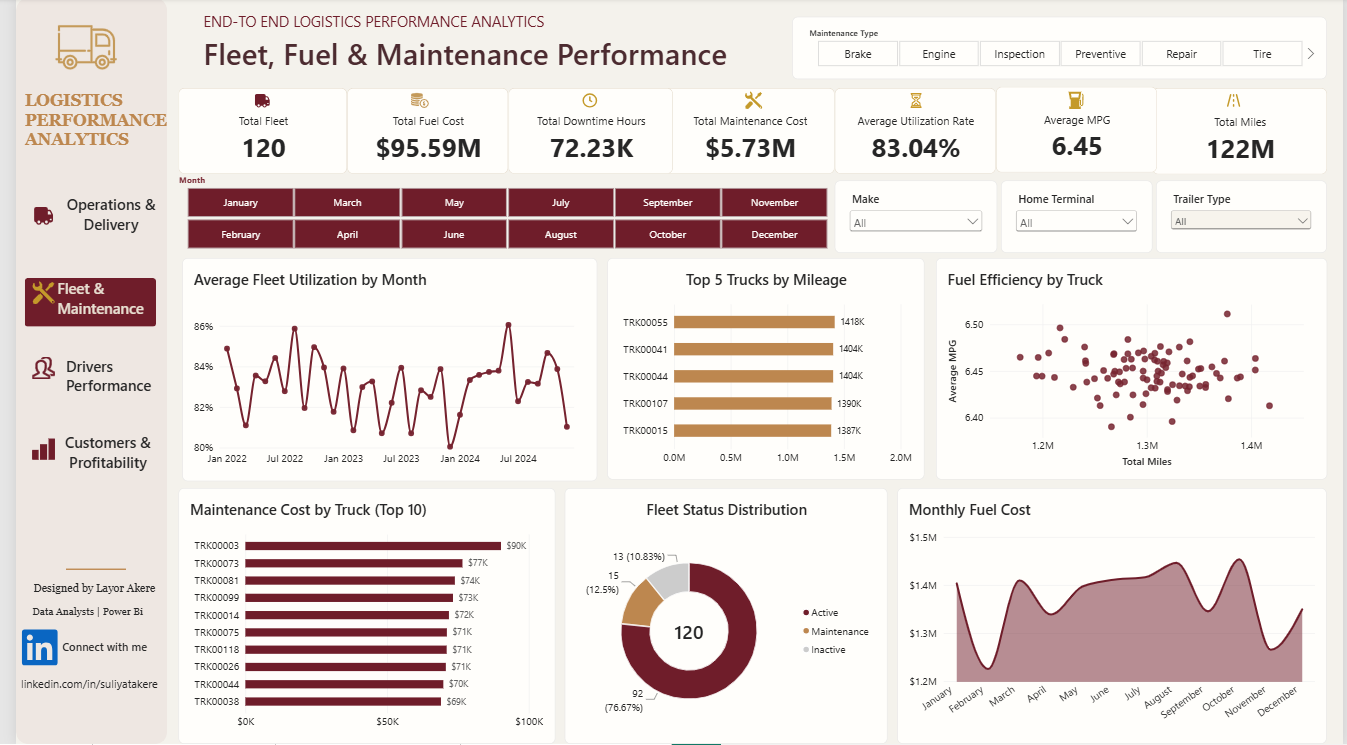

This screenshot's page, from the dashboard's own definition file:
{"tool":"powerbi","page":{"name":"Fleet&Maintenance","canvas":[1920,1080],"ordinal":1},"visuals":[{"type":"cardVisual","fields":{"Data":["truck.Total Fleet"]},"box":[234.6,129.7,244.3,124.9],"z":0},{"type":"cardVisual","fields":{"Data":["trip.Total Miles"]},"box":[1644.6,129.7,253.2,125.6],"z":1000},{"type":"cardVisual","fields":{"Data":["truck utilization metrics.Average Utilization Rate"]},"box":[1185.6,129.7,233.4,124.9],"z":2000},{"type":"cardVisual","fields":{"Data":["maintenance record.Total Maintenance Cost"]},"box":[938.6,129.7,246.1,124.9],"z":3000},{"type":"cardVisual","fields":{"Data":["fuel purchases.Total Fuel Cost"]},"box":[479.6,129.7,233.4,124.9],"z":4000},{"type":"cardVisual","fields":{"Data":["maintenance record.Total Downtime Hours"]},"box":[712.2,129.7,238.9,124.9],"z":5000},{"type":"cardVisual","fields":{"Data":["trip.Average MPG"]},"box":[1418.2,127.6,233.4,124.9],"z":6000},{"type":"shape","box":[0,0,219,1080.4],"z":7000},{"type":"actionButton","box":[12.7,282.3,190,65.1],"z":8000},{"type":"textbox","box":[72.4,284.1,130.3,63.3],"z":9000},{"type":"actionButton","box":[12.7,604.4,190,97.7],"z":10000},{"type":"actionButton","box":[14.5,396.3,190,79.6],"z":11000},{"type":"actionButton","box":[12.7,510.3,208.1,79.6],"z":12000},{"type":"actionButton","box":[12.7,405.4,190,70.6],"z":13000},{"type":"textbox","box":[59.7,405.4,148.4,63.3],"z":14000},{"type":"textbox","box":[72.4,517.6,135.7,67],"z":15000},{"type":"textbox","box":[56.1,628,153.8,83.2],"z":16000},{"type":"lineChart","title":" Average Fleet Utilization by Month","fields":{"Category":["truck utilization metrics.month.Variation.Date Hierarchy.Year","truck utilization metrics.month.Variation.Date Hierarchy.Month"],"Y":["truck utilization metrics.Average Utilization Rate"]},"box":[240.8,376.7,601,323.2],"z":17000},{"type":"clusteredBarChart","title":"Maintenance Cost by Truck (Top 10)","fields":{"Y":["maintenance record.Total Maintenance Cost"],"Category":["maintenance record.Truck ID"]},"box":[234.6,710.1,545.5,370.5],"z":18000},{"type":"donutChart","title":"Fleet Status Distribution","fields":{"Category":["truck.Status"],"Y":["truck.Total Fleet"]},"box":[794.5,710.1,467.2,370.5],"z":19000},{"type":"slicer","fields":{"Values":["truck.Home Terminal"]},"box":[1426.4,263.5,219,105],"z":20000},{"type":"areaChart","title":"Monthly Fuel Cost","fields":{"Category":["fuel purchases.purchase_date.Variation.Date Hierarchy.Month"],"Y":["fuel purchases.Total Fuel Cost"]},"box":[1276.2,710.1,621.6,370.5],"z":21000},{"type":"scatterChart","title":"Fuel Efficiency by Truck","fields":{"X":["trip.Total Miles"],"Y":["trip.Average MPG"],"Category":["trip.Truck ID"]},"box":[1331.7,376.7,566,321.1],"z":22000},{"type":"barChart","title":"Top 5 Trucks by Mileage ","fields":{"Category":["truck.Truck ID"],"Y":["trip.Total Miles"]},"box":[856.3,376.7,459,321.1],"z":23000},{"type":"slicer","fields":{"Values":["truck.Make"]},"box":[1185.6,263.5,235.3,105],"z":24000},{"type":"slicer","fields":{"Values":["trailer.Trailer Type"]},"box":[1650.8,263.5,247,105],"z":25000},{"type":"textbox","box":[12.7,115.8,215.3,139.3],"z":26000},{"type":"textbox","box":[271.7,51.5,796.6,76.2],"z":27000},{"type":"image","box":[343.7,129.7,25.3,36.2],"z":28000},{"type":"image","box":[1055.9,129.7,25.3,36.2],"z":29000},{"type":"image","box":[572.2,129.7,25.3,36.2],"z":30000},{"type":"image","box":[817.2,129.7,25.3,36.2],"z":31000},{"type":"image","box":[1290.6,129.7,25.3,36.2],"z":32000},{"type":"image","box":[1521.1,129.7,25.3,36.2],"z":33000},{"type":"image","box":[1749.6,129.7,25.3,36.2],"z":34000},{"type":"image","box":[23.5,289.5,32.6,50.7],"z":35000},{"type":"image","box":[23.5,401.7,32.6,50.7],"z":36000},{"type":"image","box":[23.5,510.3,32.6,50.7],"z":37000},{"type":"image","box":[23.5,628,32.6,50.7],"z":38000},{"type":"image","box":[23.5,27.1,155.6,88.7],"z":39000},{"type":"textbox","box":[25.3,845.1,188.2,50.7],"z":40000},{"type":"textbox","box":[23.5,877.7,179.2,41.6],"z":41000},{"type":"textbox","box":[271.4,0,548.3,61.5],"z":42000},{"type":"slicer","fields":{"Values":["truck utilization metrics.month.Variation.Date Hierarchy.Month"]},"box":[228.5,255.2,965.4,109.1],"z":43000},{"type":"slicer","fields":{"Values":["maintenance record.Maintenance Type"]},"box":[1123.8,26.8,773.9,90.6],"z":44000},{"type":"textbox","box":[7.2,980.8,206.3,38],"z":45000},{"type":"image","box":[0,899.4,68.8,81.4],"z":46000},{"type":"shape","box":[72.4,783.6,86.9,86.9],"z":47000},{"type":"textbox","box":[67,928.4,153.8,25.3],"z":48000}]}

Visuals, with their boxes in screenshot pixels (x1, y1, x2, y2), scaled from the page's 1920x1080 canvas onto the 1347x745 screenshot:
cardVisual - truck.Total Fleet: {"left": 165, "top": 89, "right": 336, "bottom": 176}
cardVisual - trip.Total Miles: {"left": 1154, "top": 89, "right": 1331, "bottom": 176}
cardVisual - truck utilization metrics.Average Utilization Rate: {"left": 832, "top": 89, "right": 996, "bottom": 176}
cardVisual - maintenance record.Total Maintenance Cost: {"left": 658, "top": 89, "right": 831, "bottom": 176}
cardVisual - fuel purchases.Total Fuel Cost: {"left": 336, "top": 89, "right": 500, "bottom": 176}
cardVisual - maintenance record.Total Downtime Hours: {"left": 500, "top": 89, "right": 667, "bottom": 176}
cardVisual - trip.Average MPG: {"left": 995, "top": 88, "right": 1159, "bottom": 174}
shape: {"left": 0, "top": 0, "right": 154, "bottom": 744}
actionButton: {"left": 9, "top": 195, "right": 142, "bottom": 240}
textbox: {"left": 51, "top": 196, "right": 142, "bottom": 240}
actionButton: {"left": 9, "top": 417, "right": 142, "bottom": 484}
actionButton: {"left": 10, "top": 273, "right": 143, "bottom": 328}
actionButton: {"left": 9, "top": 352, "right": 155, "bottom": 407}
actionButton: {"left": 9, "top": 280, "right": 142, "bottom": 328}
textbox: {"left": 42, "top": 280, "right": 146, "bottom": 323}
textbox: {"left": 51, "top": 357, "right": 146, "bottom": 403}
textbox: {"left": 39, "top": 433, "right": 147, "bottom": 491}
" Average Fleet Utilization by Month" lineChart: {"left": 169, "top": 260, "right": 591, "bottom": 483}
"Maintenance Cost by Truck (Top 10)" clusteredBarChart: {"left": 165, "top": 490, "right": 547, "bottom": 744}
"Fleet Status Distribution" donutChart: {"left": 557, "top": 490, "right": 885, "bottom": 744}
slicer - truck.Home Terminal: {"left": 1001, "top": 182, "right": 1154, "bottom": 254}
"Monthly Fuel Cost" areaChart: {"left": 895, "top": 490, "right": 1331, "bottom": 744}
"Fuel Efficiency by Truck" scatterChart: {"left": 934, "top": 260, "right": 1331, "bottom": 481}
"Top 5 Trucks by Mileage " barChart: {"left": 601, "top": 260, "right": 923, "bottom": 481}
slicer - truck.Make: {"left": 832, "top": 182, "right": 997, "bottom": 254}
slicer - trailer.Trailer Type: {"left": 1158, "top": 182, "right": 1331, "bottom": 254}
textbox: {"left": 9, "top": 80, "right": 160, "bottom": 176}
textbox: {"left": 191, "top": 36, "right": 749, "bottom": 88}
image: {"left": 241, "top": 89, "right": 259, "bottom": 114}
image: {"left": 741, "top": 89, "right": 759, "bottom": 114}
image: {"left": 401, "top": 89, "right": 419, "bottom": 114}
image: {"left": 573, "top": 89, "right": 591, "bottom": 114}
image: {"left": 905, "top": 89, "right": 923, "bottom": 114}
image: {"left": 1067, "top": 89, "right": 1085, "bottom": 114}
image: {"left": 1227, "top": 89, "right": 1245, "bottom": 114}
image: {"left": 16, "top": 200, "right": 39, "bottom": 235}
image: {"left": 16, "top": 277, "right": 39, "bottom": 312}
image: {"left": 16, "top": 352, "right": 39, "bottom": 387}
image: {"left": 16, "top": 433, "right": 39, "bottom": 468}
image: {"left": 16, "top": 19, "right": 126, "bottom": 80}
textbox: {"left": 18, "top": 583, "right": 150, "bottom": 618}
textbox: {"left": 16, "top": 605, "right": 142, "bottom": 634}
textbox: {"left": 190, "top": 0, "right": 575, "bottom": 42}
slicer - truck utilization metrics.month.Variation.Date Hierarchy.Month: {"left": 160, "top": 176, "right": 838, "bottom": 251}
slicer - maintenance record.Maintenance Type: {"left": 788, "top": 18, "right": 1331, "bottom": 81}
textbox: {"left": 5, "top": 677, "right": 150, "bottom": 703}
image: {"left": 0, "top": 620, "right": 48, "bottom": 677}
shape: {"left": 51, "top": 541, "right": 112, "bottom": 600}
textbox: {"left": 47, "top": 640, "right": 155, "bottom": 658}
